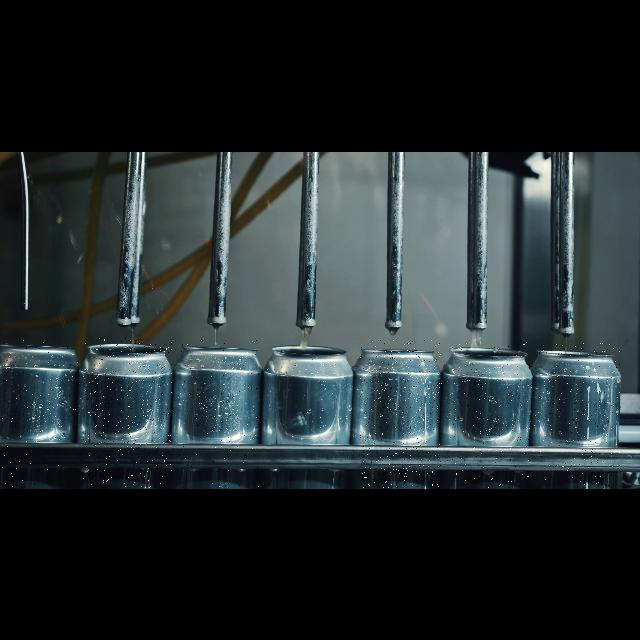empty: (83, 338, 173, 488), (447, 342, 535, 488), (266, 340, 352, 488), (178, 338, 260, 488), (360, 340, 442, 488), (538, 342, 620, 488), (2, 338, 78, 488)
